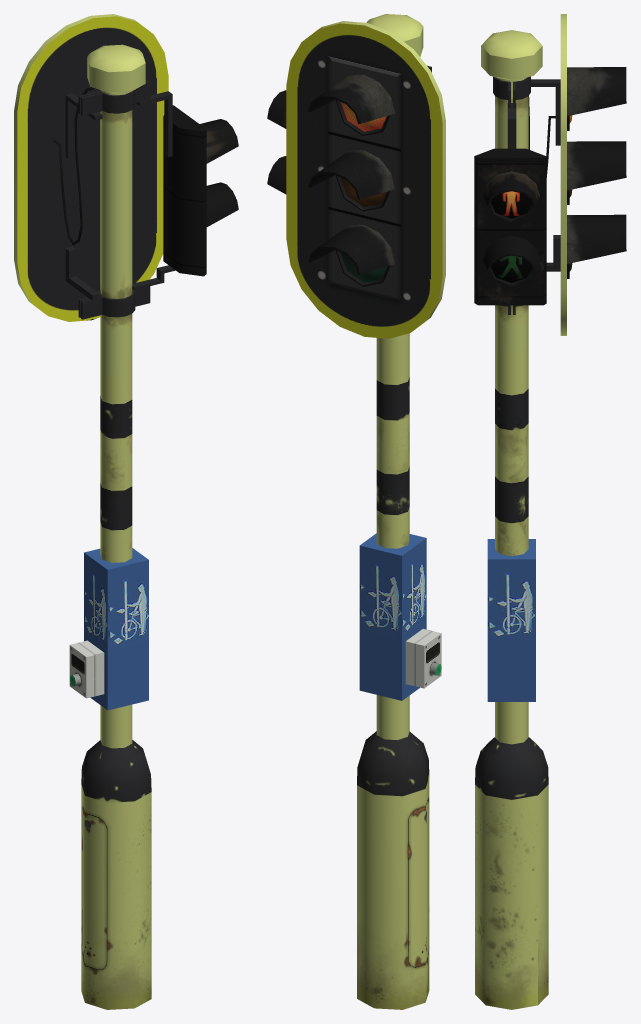
The picture shows the model from 3 angles, left to right: view 1: azimuth 30°, elevation 25°; view 2: azimuth 150°, elevation 25°; view 3: azimuth 270°, elevation 25°; orthographic projection. The views are drawn at different scales.
Parts seen in each view (by area): view 1: Traffic_light; view 2: Traffic_light; view 3: Traffic_light.
Boxes of the visible parts, x1,y1,x2,y2 form: Traffic_light: (14, 14, 238, 1009); Traffic_light: (267, 14, 445, 1009); Traffic_light: (474, 14, 626, 1009).
Bounding box in the file's own units: 51.07 × 252 × 35.75.
1 material, 1 textured.
